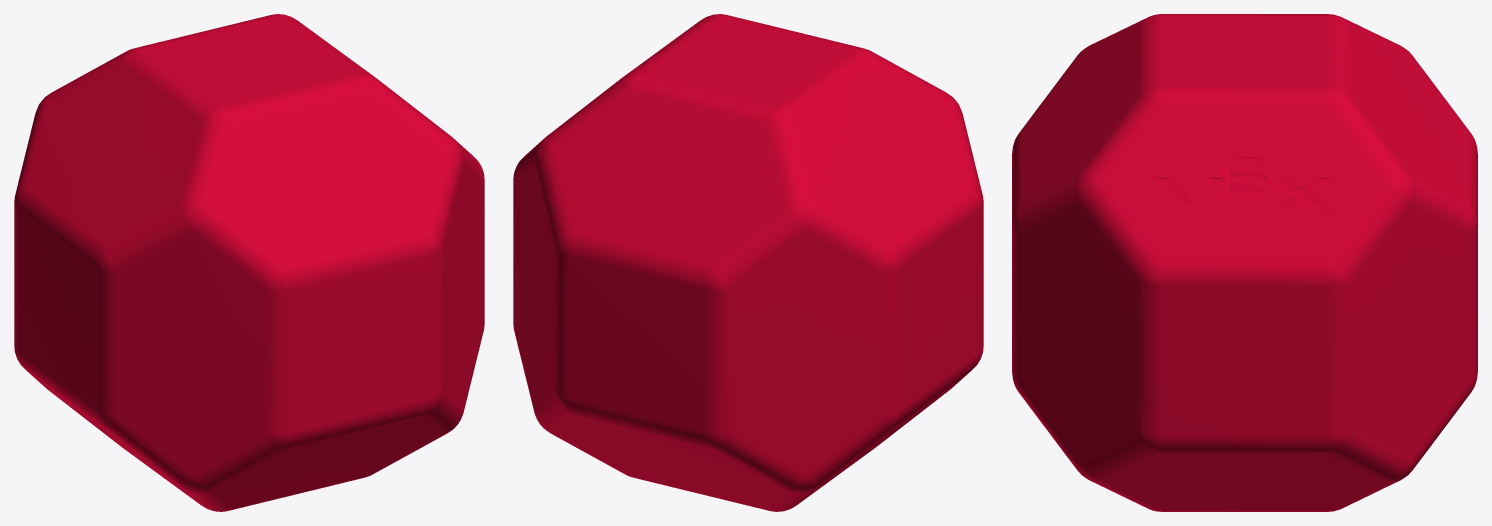
Rendered from ball.glb.
The picture shows the model from 3 angles, left to right: view 1: azimuth 30°, elevation 25°; view 2: azimuth 150°, elevation 25°; view 3: azimuth 270°, elevation 25°; orthographic projection. The views are drawn at different scales.
Parts seen in each view (by area): view 1: ball; view 2: ball; view 3: ball.
Boxes of the visible parts, x1,y1,x2,y2 form: ball: [14, 14, 484, 511]; ball: [513, 14, 983, 511]; ball: [1012, 14, 1477, 511].
Bounding box in the file's own units: 0.3131 × 0.3131 × 0.3131.
